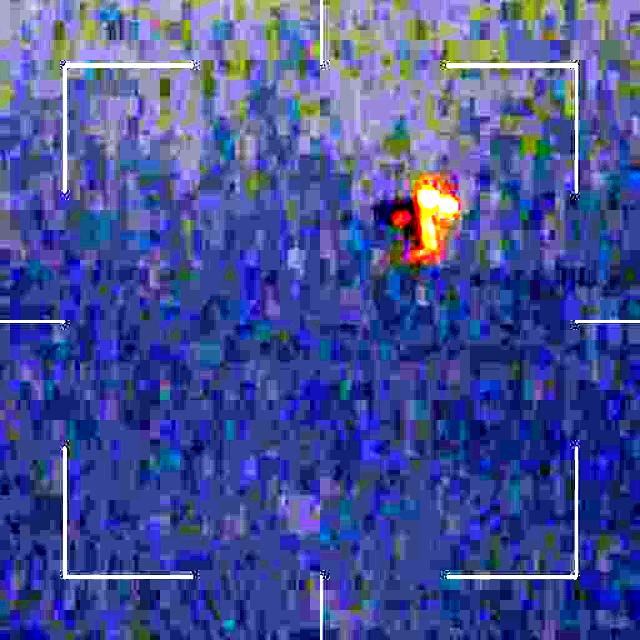bird: (379, 182, 452, 271)
